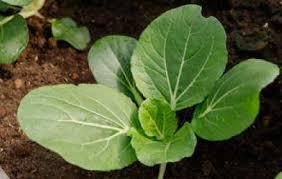Healthy-Pechay: (44, 32, 265, 165)
